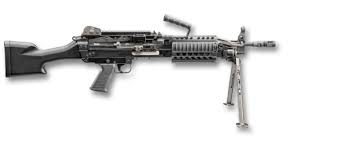gun: (2, 26, 277, 93)
